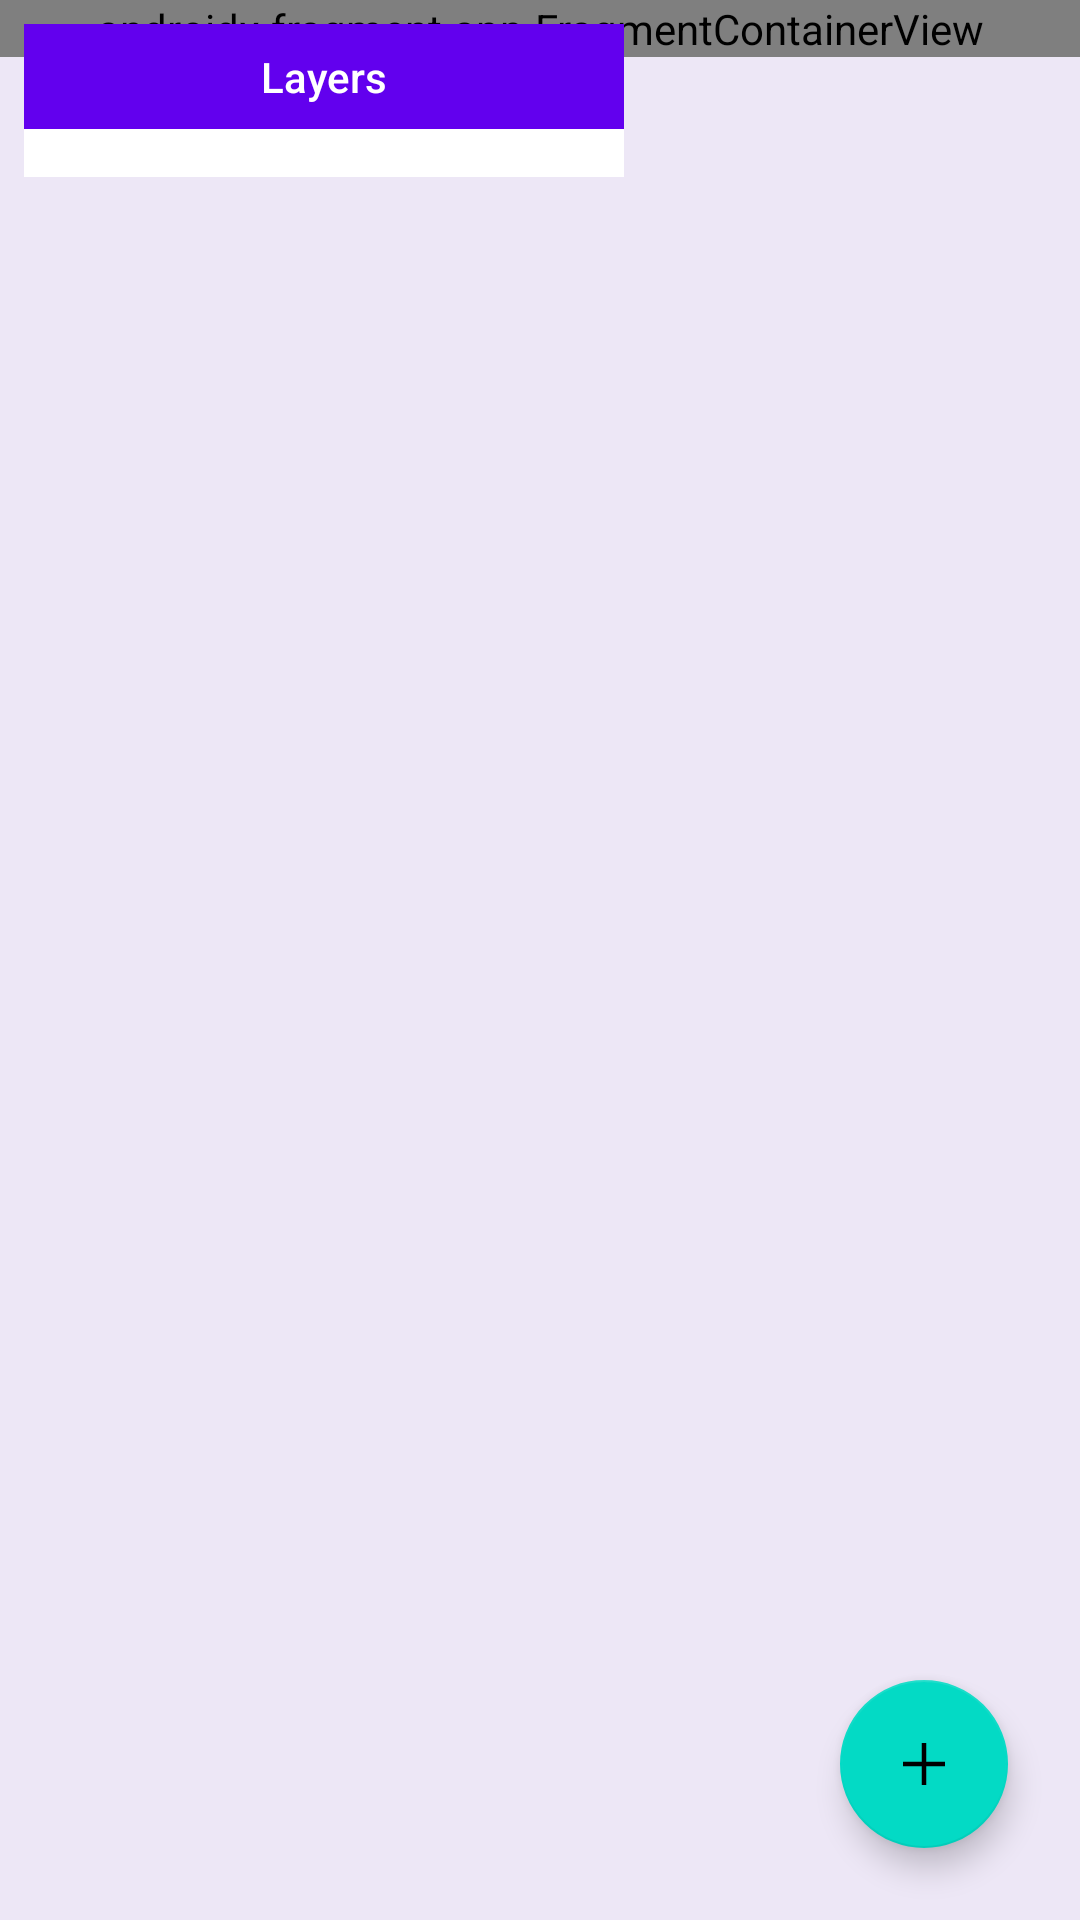

Icons on this 1080w x 1920h Android screen, each with the point to tap as [x,y]:
Add marker: [924,1764]
